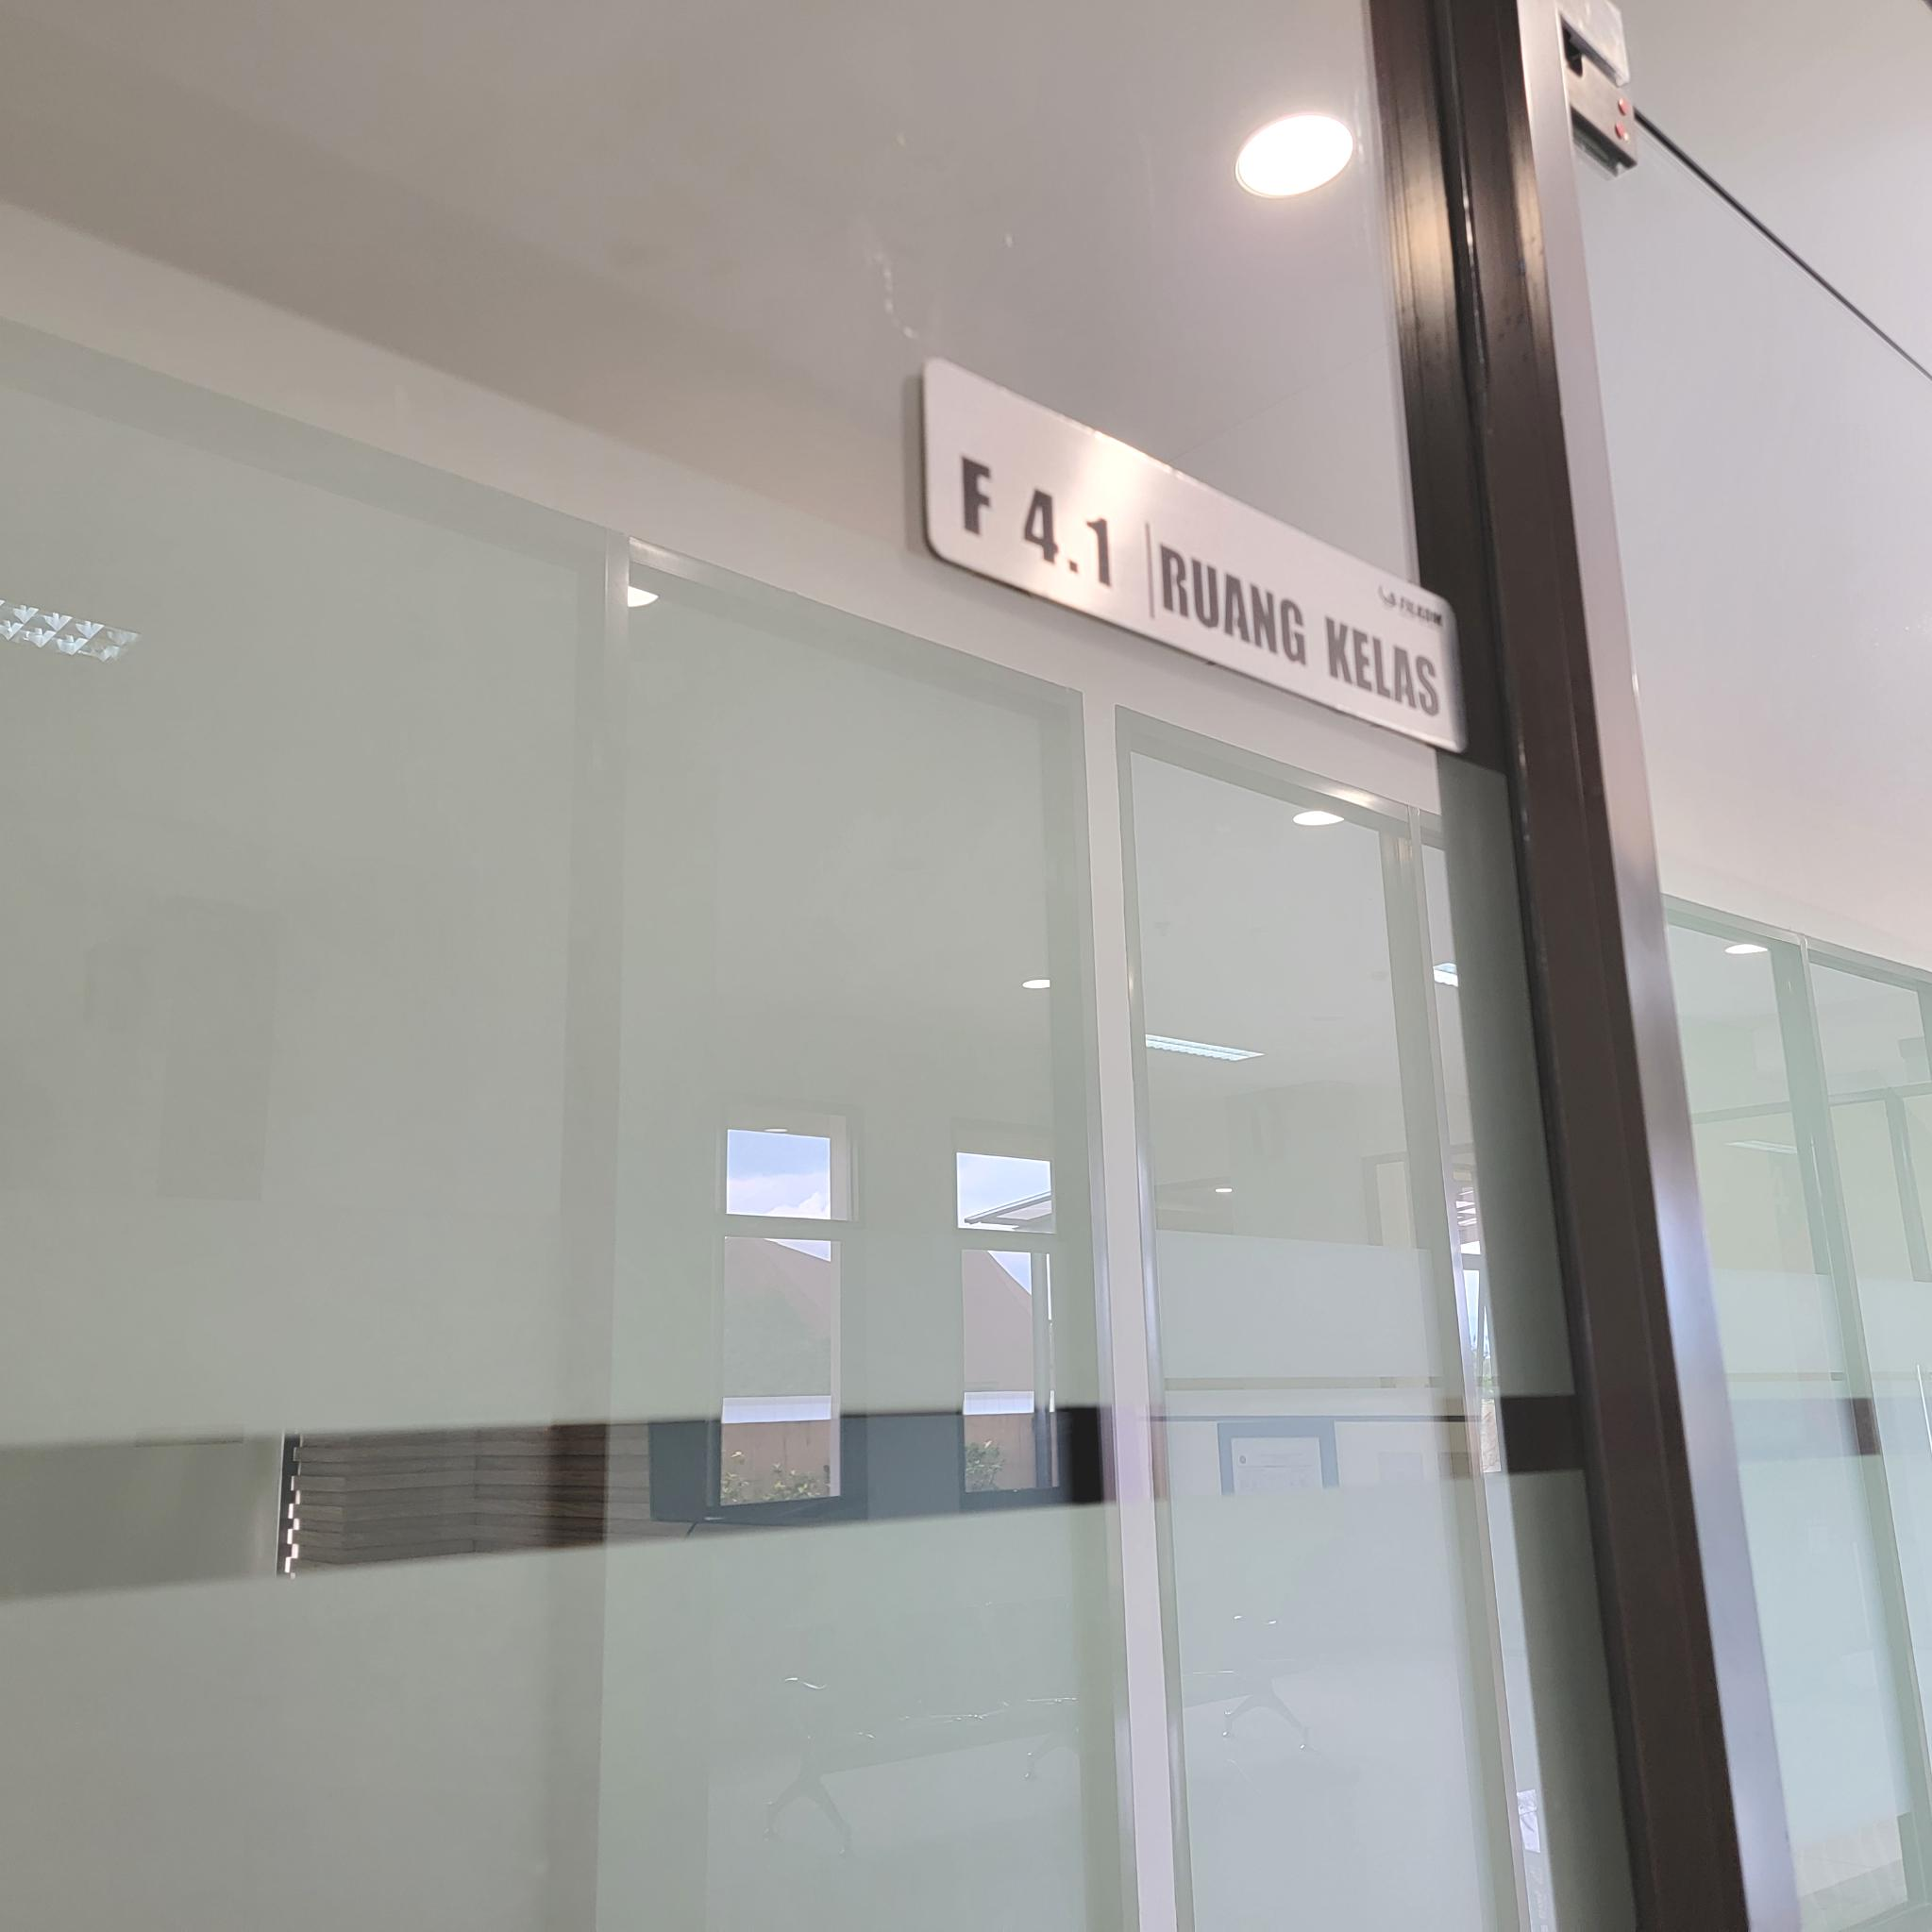plate: (924, 352, 1468, 759)
